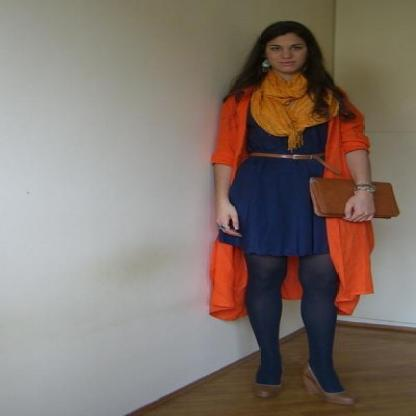bag: (310, 177, 398, 222)
dress: (216, 125, 328, 254)
jacket: (208, 97, 373, 320)
shoe: (251, 366, 367, 404)
